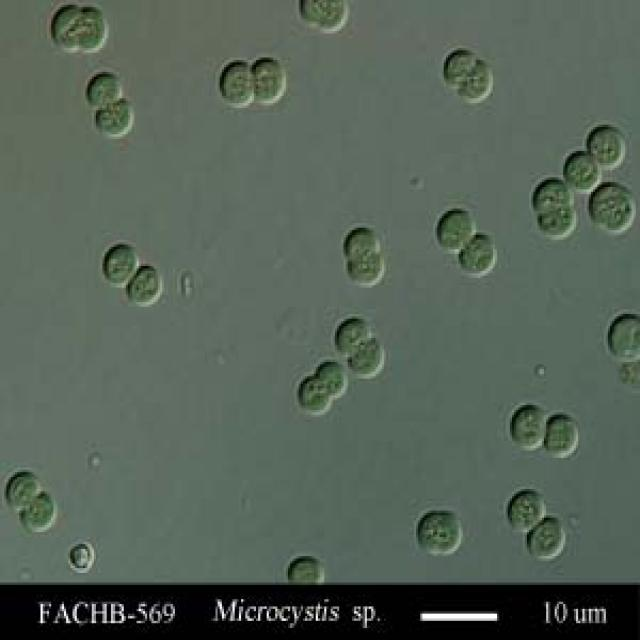Blue Green Algae: (414, 508, 463, 556), (502, 484, 548, 532), (527, 513, 570, 561), (585, 124, 627, 172), (435, 201, 474, 252), (249, 55, 286, 108), (542, 412, 580, 460), (506, 402, 544, 450), (218, 55, 252, 108), (47, 3, 81, 55), (17, 489, 60, 530), (563, 148, 602, 192), (459, 233, 497, 278), (98, 240, 137, 283), (79, 3, 111, 55), (92, 98, 134, 137), (461, 58, 495, 106), (606, 309, 640, 357), (85, 67, 126, 106), (4, 468, 41, 510), (531, 175, 576, 209), (538, 199, 578, 237), (124, 264, 162, 304), (439, 46, 474, 88), (344, 252, 388, 285), (343, 220, 380, 259), (331, 314, 371, 350), (348, 336, 384, 376), (589, 180, 623, 220), (311, 360, 348, 396), (294, 374, 328, 412), (284, 551, 324, 580), (68, 537, 96, 573)
